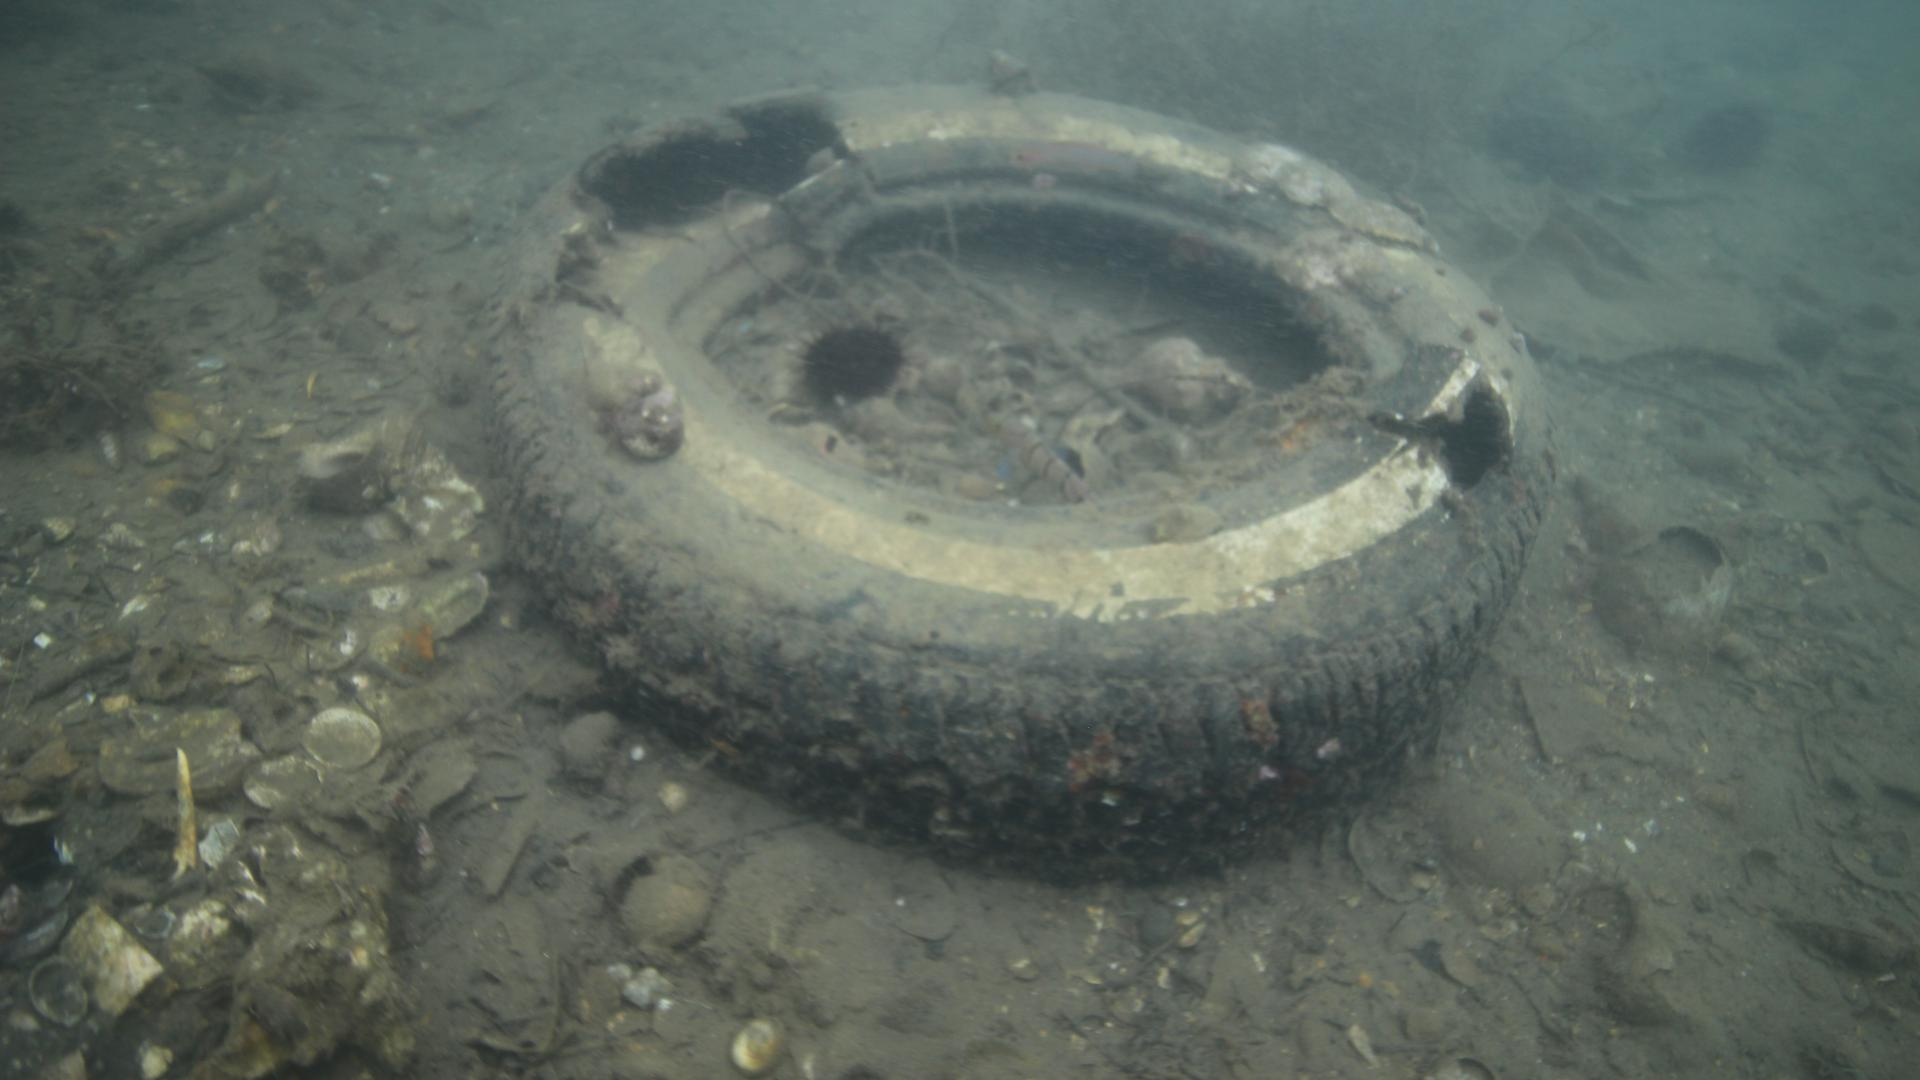tire: (481, 79, 1560, 886)
